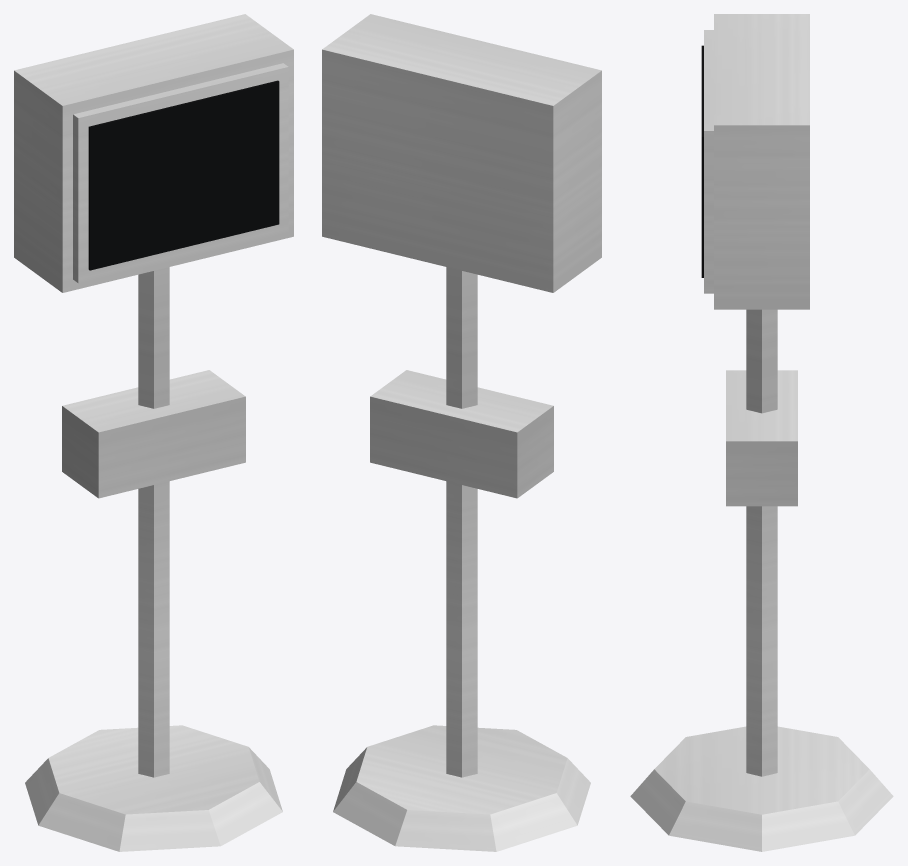
Rendered from vitals_monitor.obj.
3 renders of one model, left to right at view 1: azimuth 30°, elevation 25°; view 2: azimuth 150°, elevation 25°; view 3: azimuth 270°, elevation 25°, orthographic.
Parts seen in each view (by area): view 1: vitals_monitor; view 2: vitals_monitor; view 3: vitals_monitor.
Part boxes in pixels (left/top/right/bottom): vitals_monitor: left=14, top=14, right=293, bottom=851; vitals_monitor: left=322, top=14, right=601, bottom=851; vitals_monitor: left=630, top=14, right=893, bottom=851.
Size of the model in its own units: 0.44 by 1.34 by 0.44.
